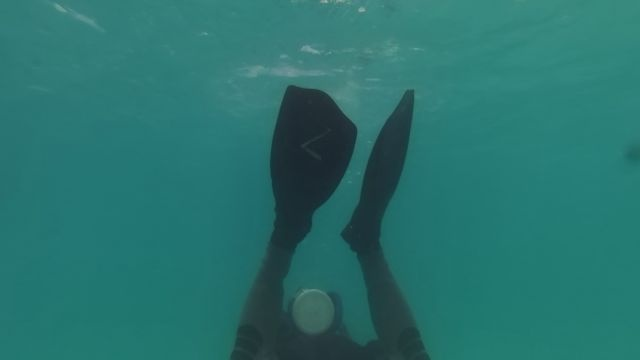Diver: (217, 77, 449, 359)
